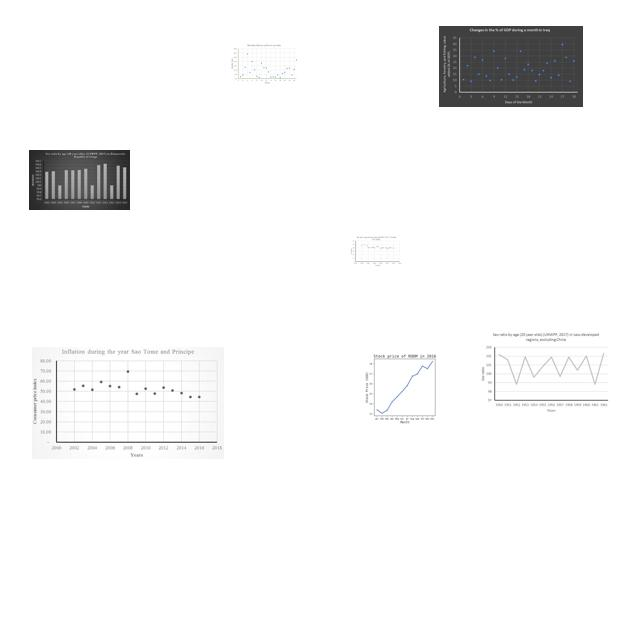Graph: (32, 347, 224, 459), (439, 26, 583, 107), (478, 331, 611, 415), (354, 350, 453, 424), (29, 150, 130, 210), (231, 44, 299, 84), (350, 236, 402, 267)
